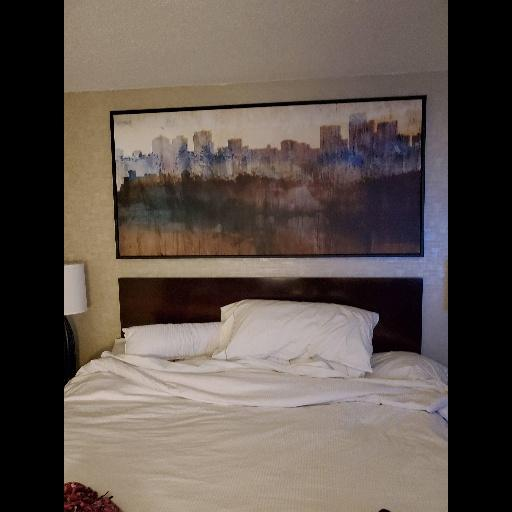Disorganized_pillow: (127, 302, 389, 382)
messy_bed: (63, 273, 451, 511)
